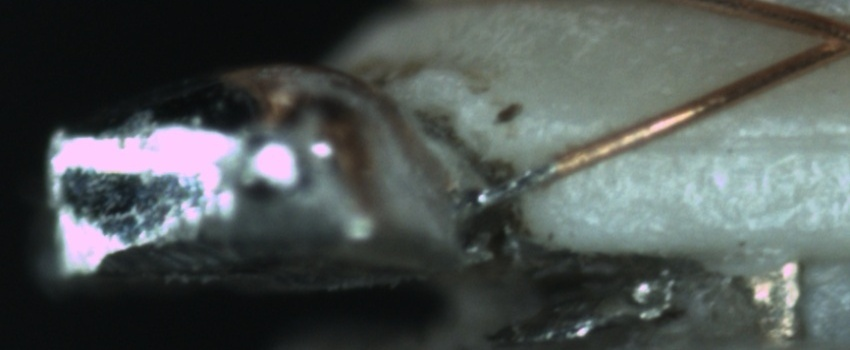CL: (796, 8, 849, 64)
DL: (618, 103, 844, 176)
TS: (464, 161, 553, 217)
